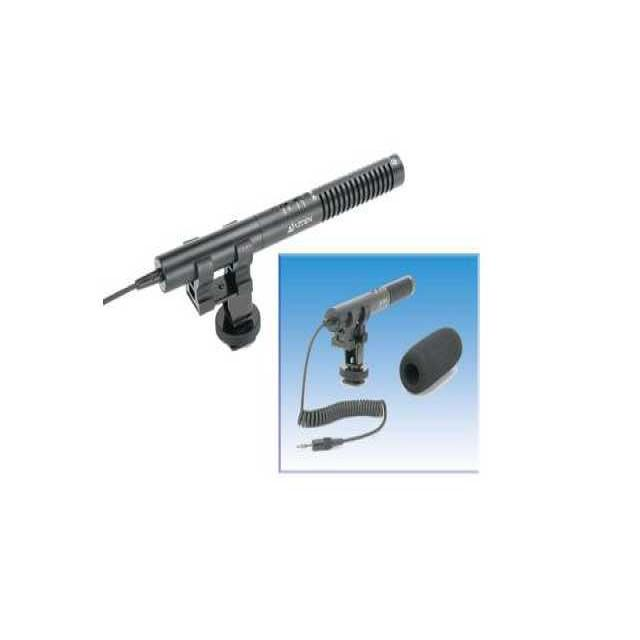microphone: (0, 0, 524, 316), (102, 142, 436, 279), (329, 262, 416, 322)
